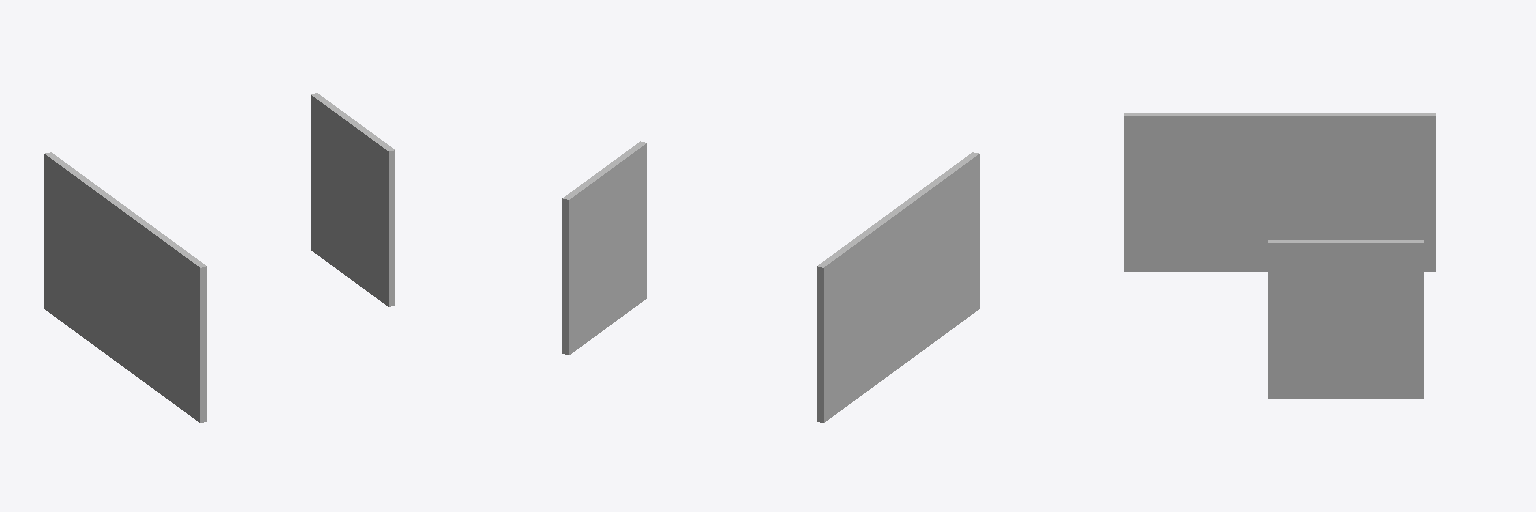
The model's file is Project3_walls.obj.
3 renders of one model, left to right at view 1: azimuth 30°, elevation 25°; view 2: azimuth 150°, elevation 25°; view 3: azimuth 270°, elevation 25°, orthographic.
Visible parts, largest first — view 1: Cube.002, Cube.001, Cube.003; view 2: Cube.001, Cube.003, Cube.002; view 3: Cube.001, Cube.002, Cube.003.
Part boxes in pixels (x1,y1,x2,y2): Cube.002: (122, 209, 206, 422); Cube.001: (311, 93, 394, 306); Cube.003: (44, 152, 127, 365); Cube.001: (562, 141, 646, 354); Cube.003: (817, 209, 901, 422); Cube.002: (896, 152, 979, 365); Cube.001: (1268, 240, 1423, 398); Cube.002: (1124, 113, 1279, 271); Cube.003: (1280, 113, 1435, 271).
Size of the model in its own units: 3.95 by 2.2 by 4.